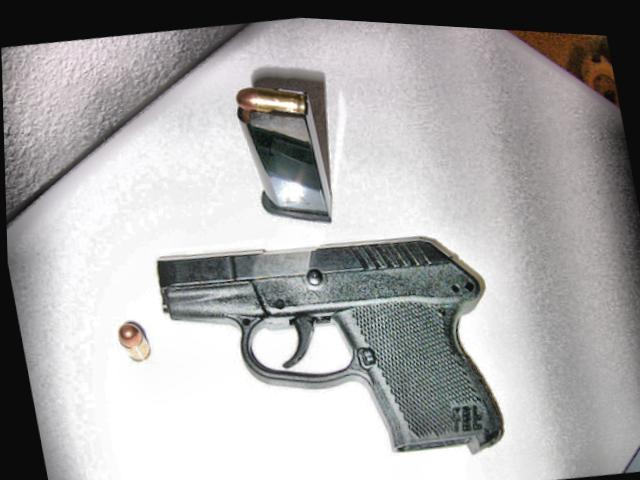pistol: (149, 203, 511, 480)
